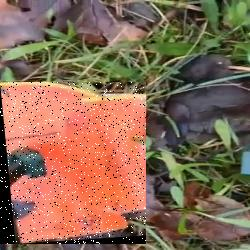restaffald: (0, 82, 146, 244)
